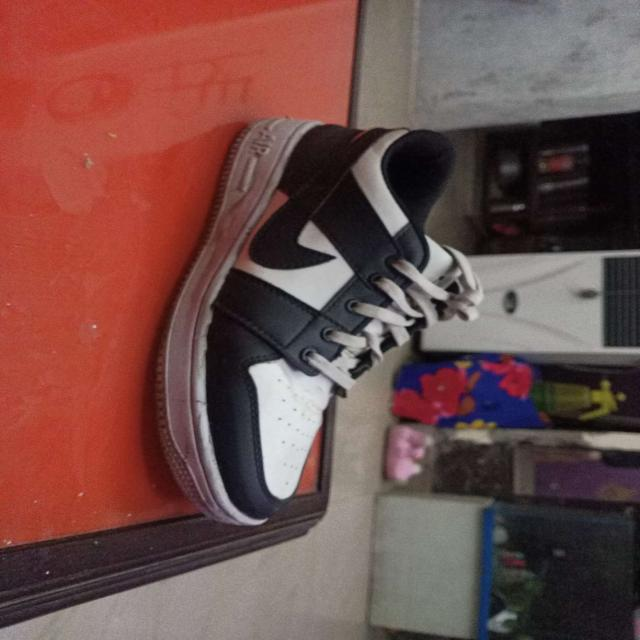shoes: (150, 113, 462, 530)
